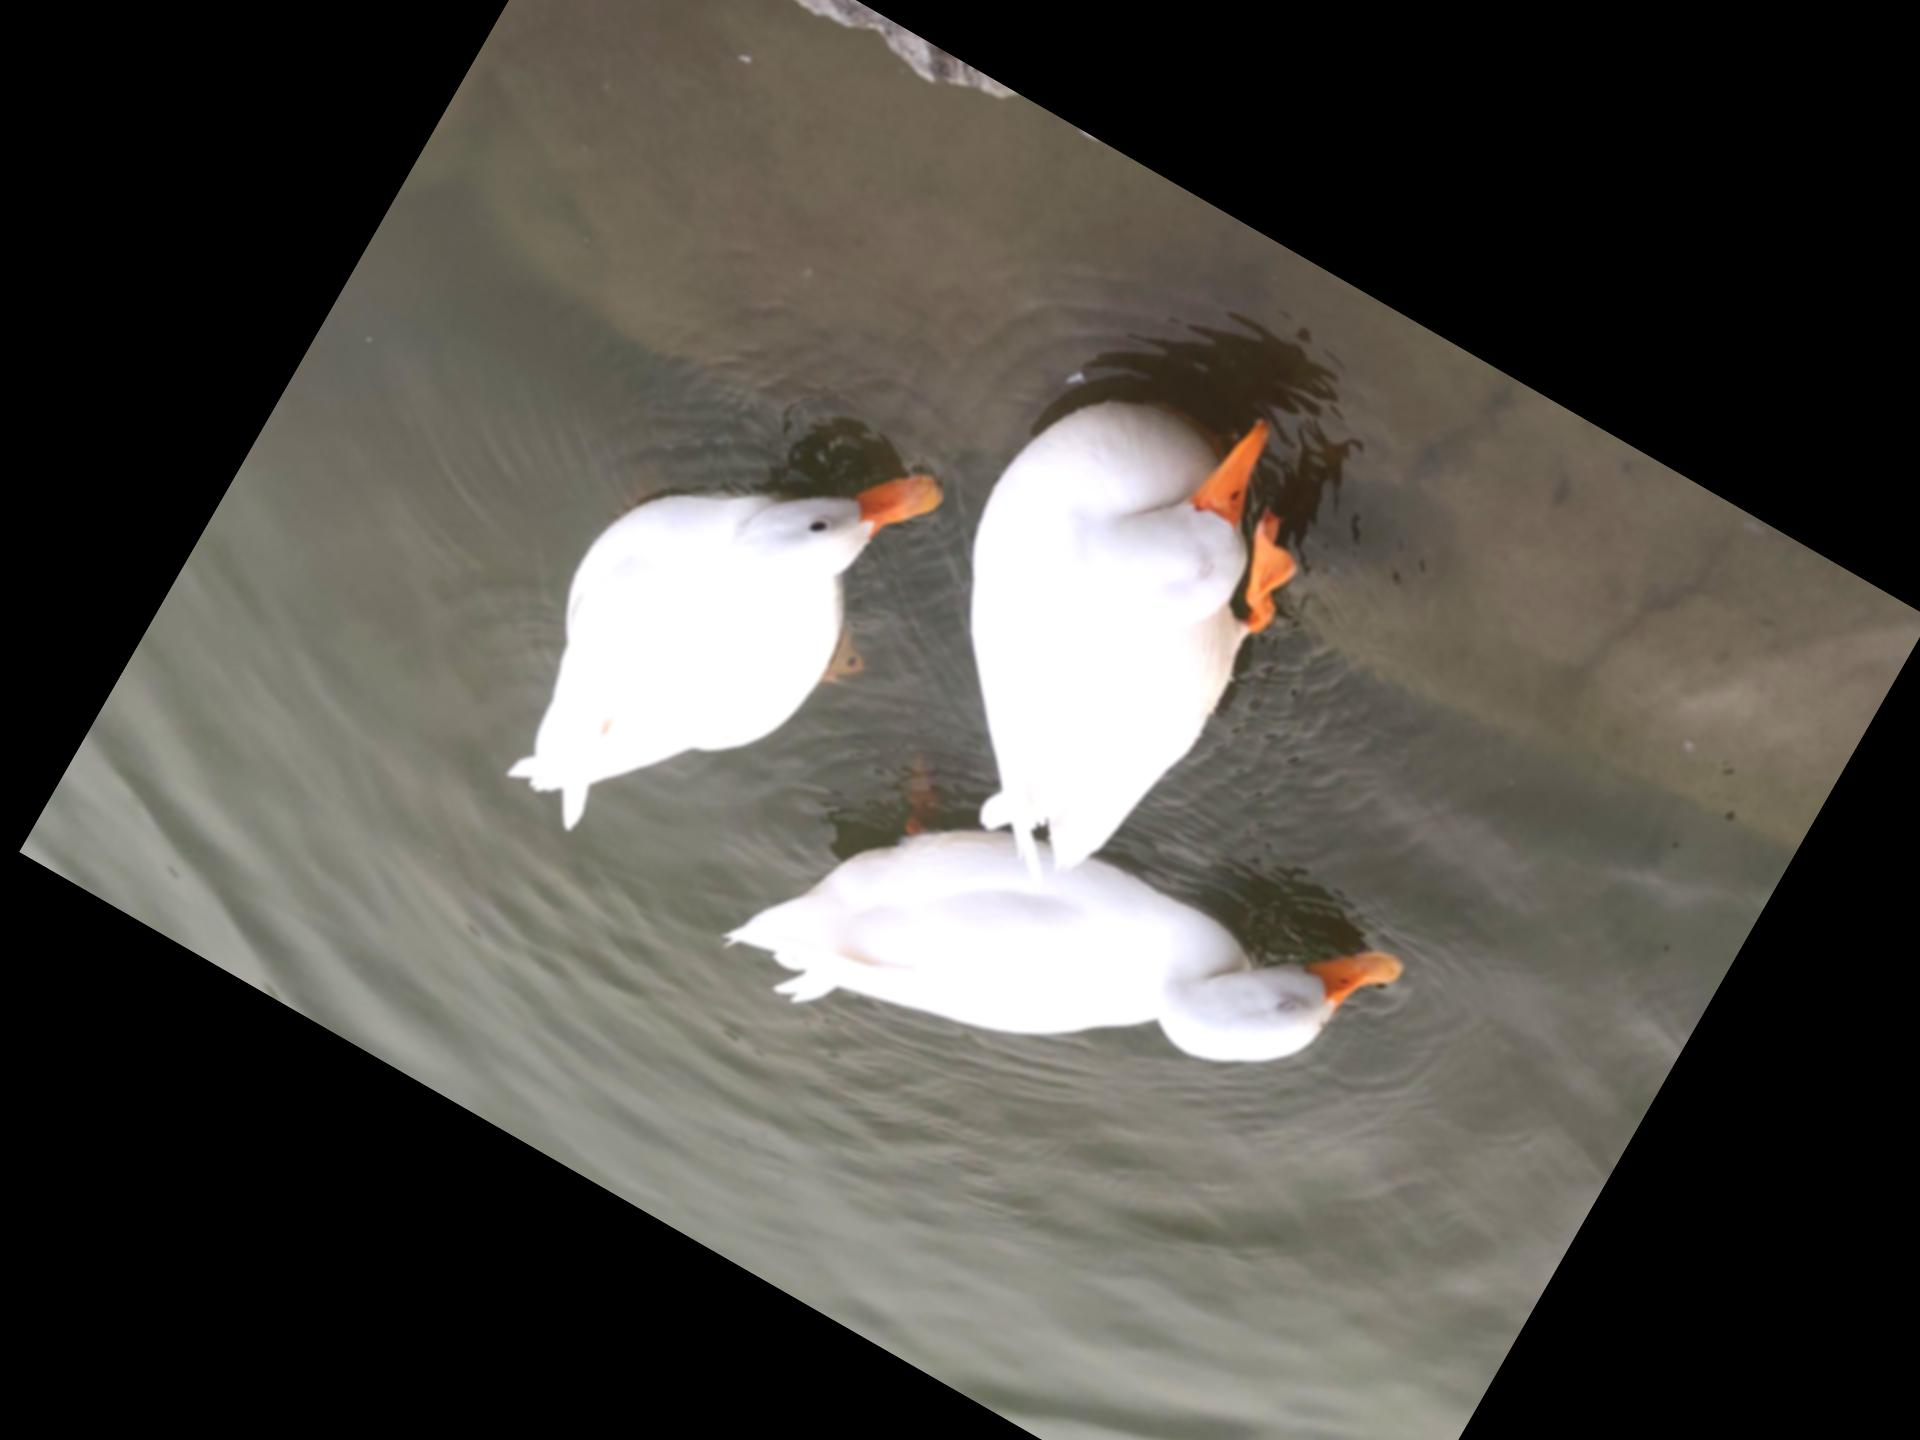duck: (679, 634, 1420, 1284), (800, 310, 1376, 951), (449, 331, 962, 923)
